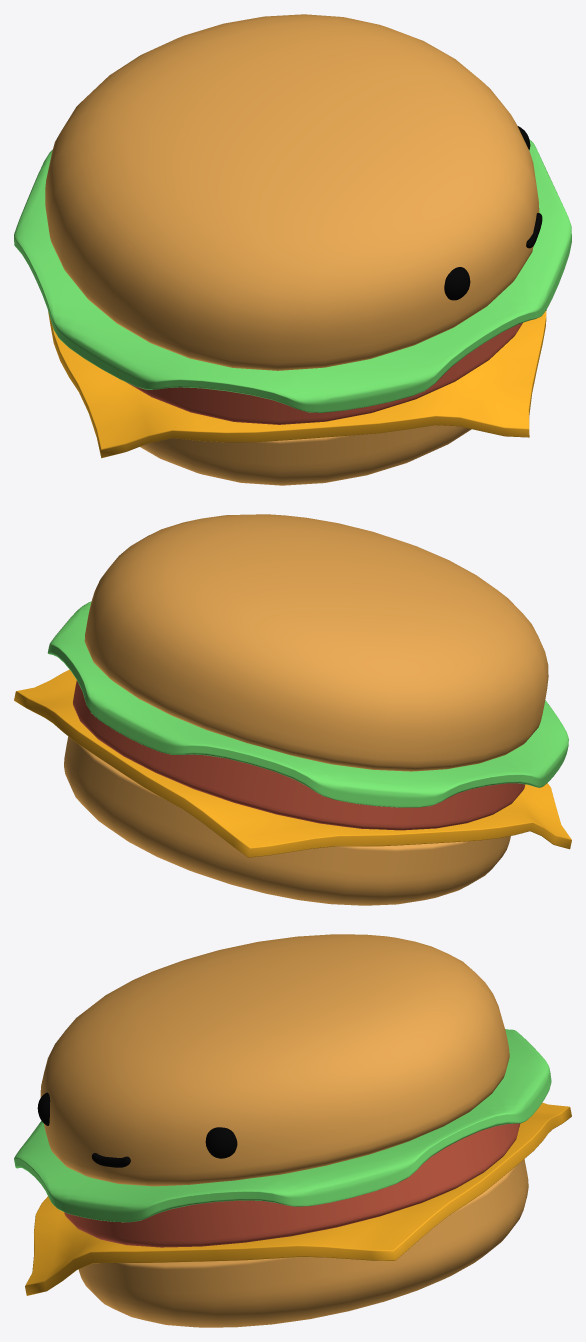
File: cute_hamburger_-_free_3d_model.glb
3 views of the same model, one above another, from view 1: azimuth 30°, elevation 25°; view 2: azimuth 150°, elevation 25°; view 3: azimuth 270°, elevation 25° (orthographic). The views are drawn at different scales.
Parts seen in each view (by area): view 1: Cube_2, Cylinder_3, Plane_5, Cube.003_6, Cube.001_4, Cube.002_7; view 2: Cube_2, Cube.003_6, Cylinder_3, Plane_5, Cube.001_4; view 3: Cube_2, Cube.003_6, Cylinder_3, Plane_5, Cube.001_4, Cube.004_8.
Boxes of the visible parts, left/top/right/bottom form: Cube_2: left=45, top=14, right=539, bottom=370; Cylinder_3: left=14, top=140, right=571, bottom=412; Plane_5: left=48, top=310, right=546, bottom=458; Cube.003_6: left=140, top=425, right=471, bottom=485; Cube.001_4: left=127, top=323, right=522, bottom=424; Cube.002_7: left=444, top=267, right=470, bottom=300; Cube_2: left=84, top=514, right=548, bottom=771; Cube.003_6: left=64, top=736, right=510, bottom=905; Cylinder_3: left=47, top=601, right=568, bottom=807; Plane_5: left=14, top=669, right=571, bottom=857; Cube.001_4: left=73, top=680, right=525, bottom=830; Cube_2: left=40, top=934, right=509, bottom=1186; Cube.003_6: left=78, top=1159, right=528, bottom=1327; Cylinder_3: left=14, top=1029, right=551, bottom=1222; Plane_5: left=25, top=1102, right=571, bottom=1295; Cube.001_4: left=64, top=1123, right=520, bottom=1247; Cube.004_8: left=205, top=1127, right=237, bottom=1158.
Bounding box in the file's own units: 3.32 × 2.16 × 3.34.
